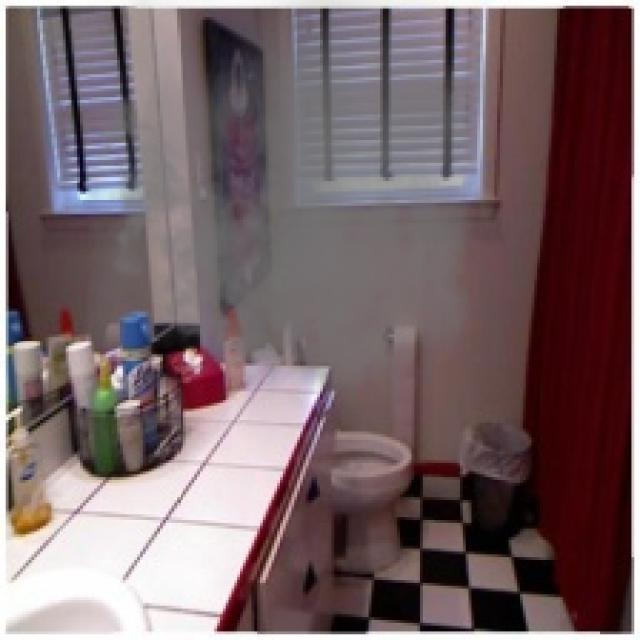Smoke: (86, 0, 494, 417)
